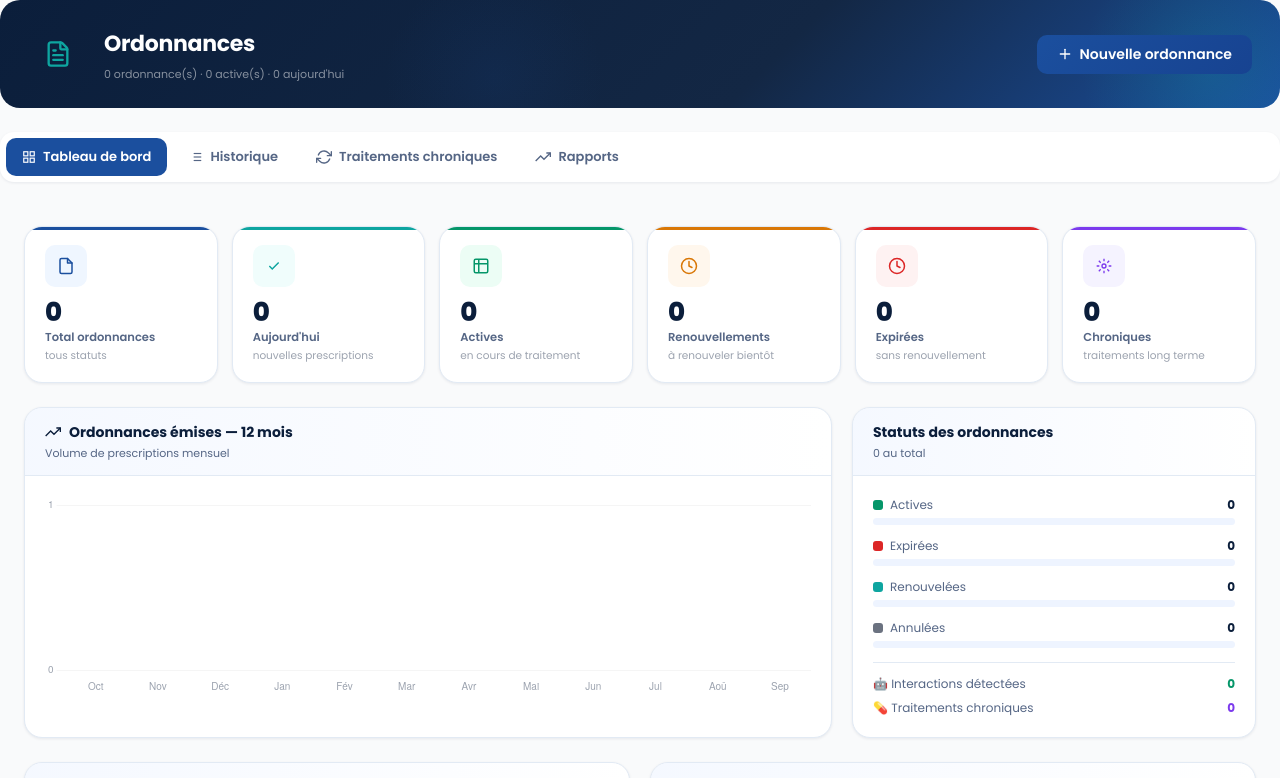
Test case: un médecin ne voit pas l'onglet "Pharmacie" dans une ordonnance ouverte
Click the button "Historique". click: [234, 157]
box: [173,138,294,176]
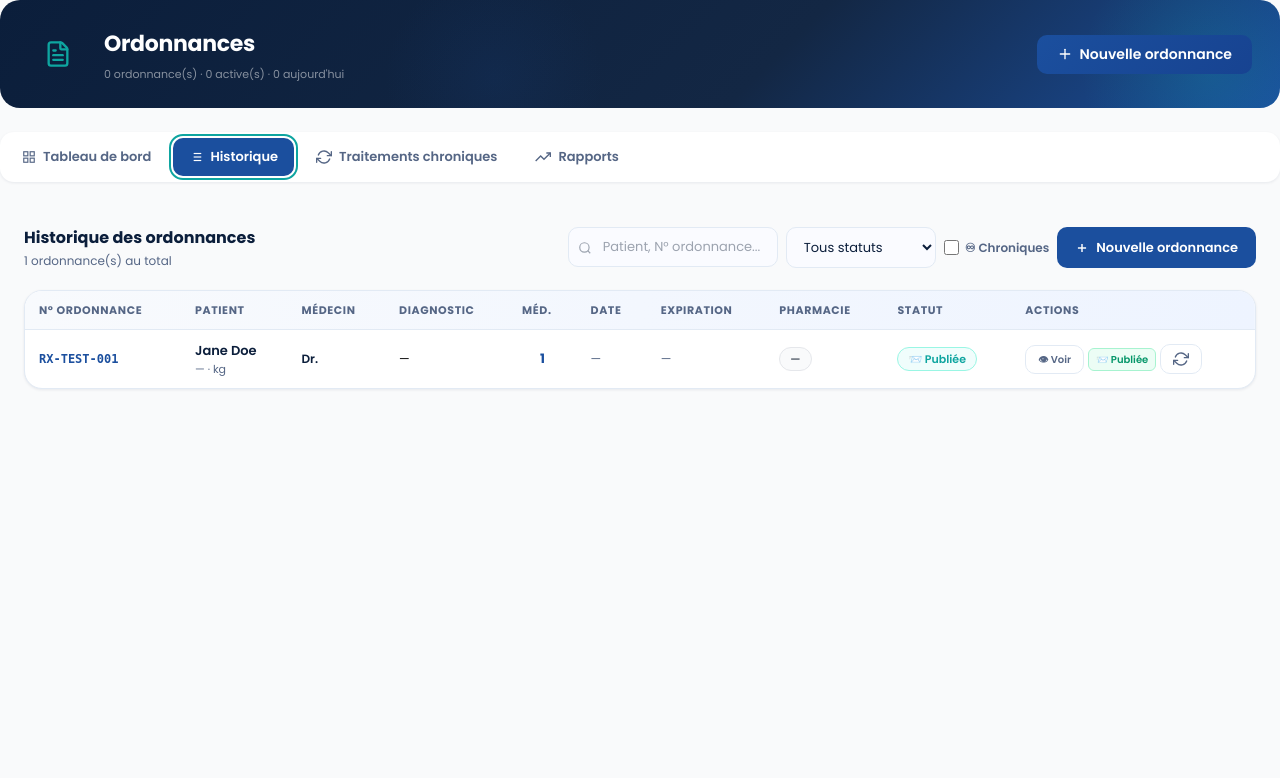
Click the button titled "Voir l'ordonnance". click: [1055, 359]
box: [1025,344,1084,374]
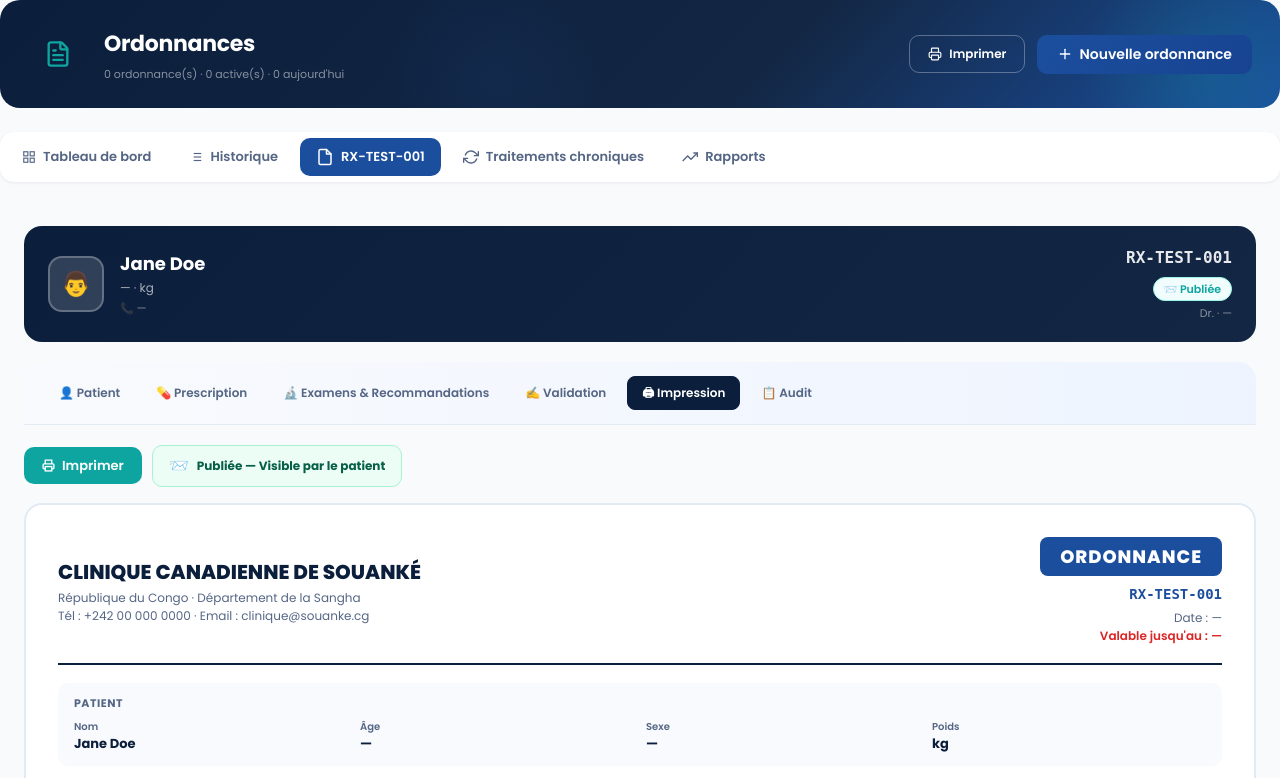
Now the button "✍️ Validation" is shown, box [510,376,621,410]
Now the column heading "Pharmacie" is gone
